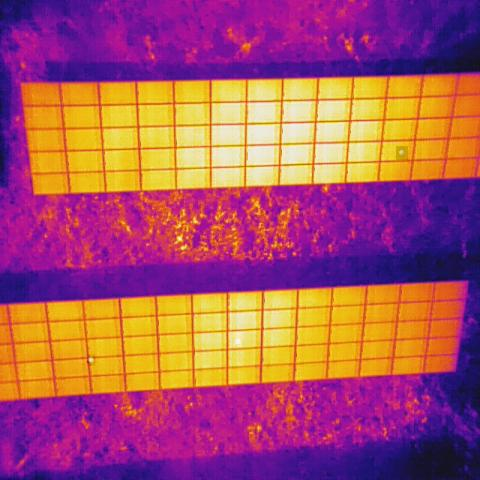fault: (396, 146, 408, 160), (233, 331, 242, 347), (87, 354, 95, 366)
